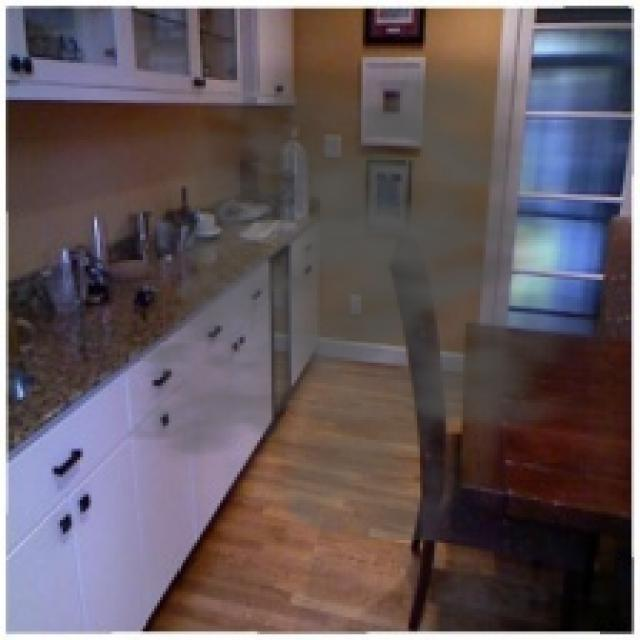Smoke: (80, 23, 606, 540)
